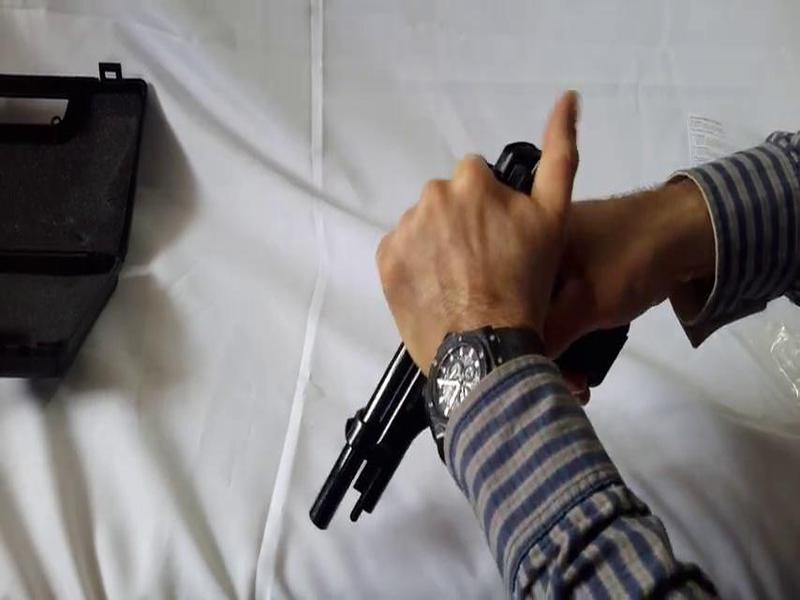Pistola: (297, 128, 631, 544)
